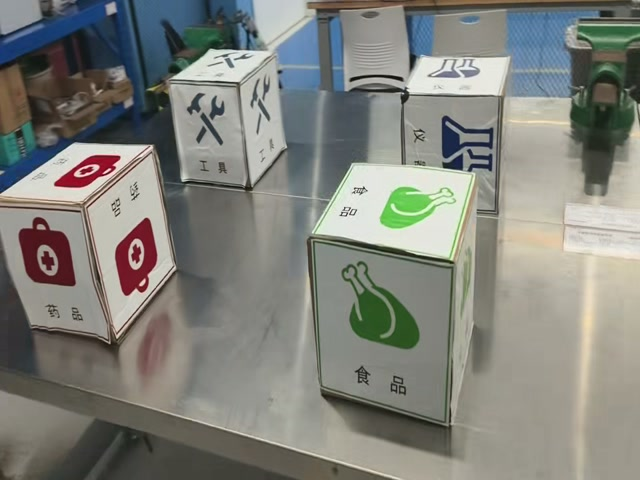Cube_food: (312, 164, 476, 269)
Cube_ins: (407, 57, 509, 97)
Cube_medicine: (0, 144, 155, 215)
Cube_tool: (170, 50, 274, 88)
